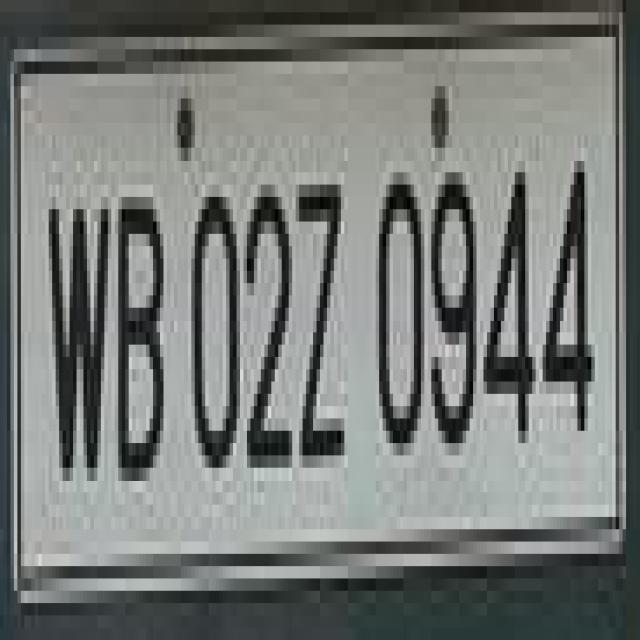license_plate: (0, 12, 619, 578)
